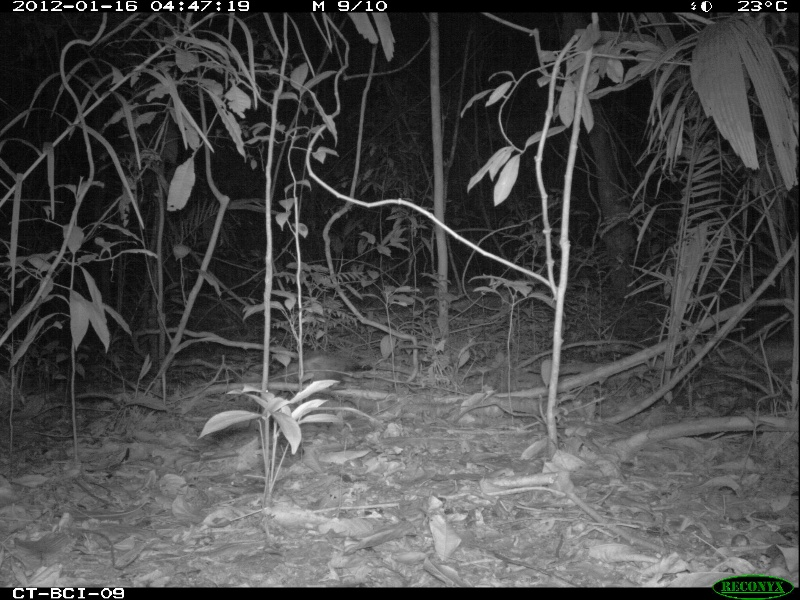opossum: (263, 353, 376, 394)
